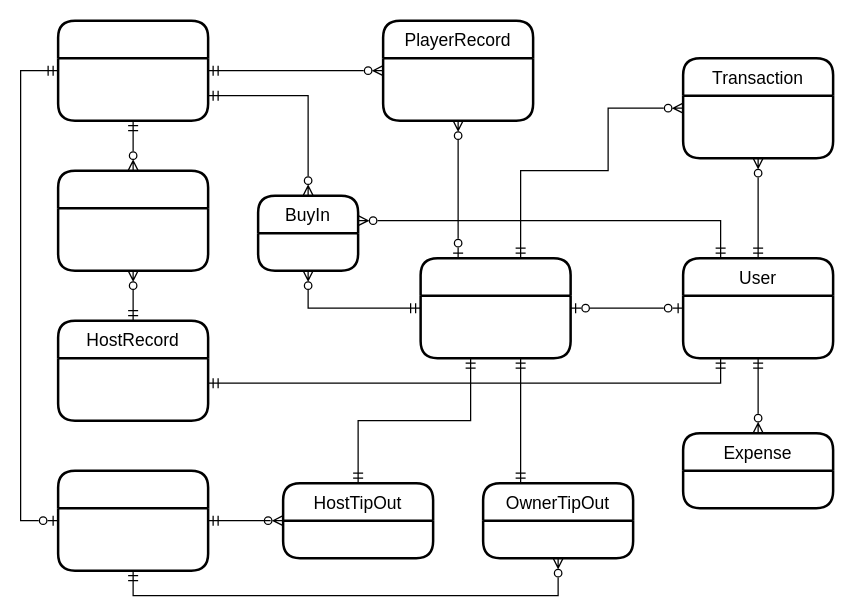
Image size: 854x616. Some labels were removed from this diagram. Here are the shapes that lost their labels. From the top down, the box of each, then its label:
(56, 19, 209, 121): GameRecord
(56, 169, 209, 271): TipSplit
(419, 256, 571, 359): Account
(56, 469, 209, 571): TipOut
